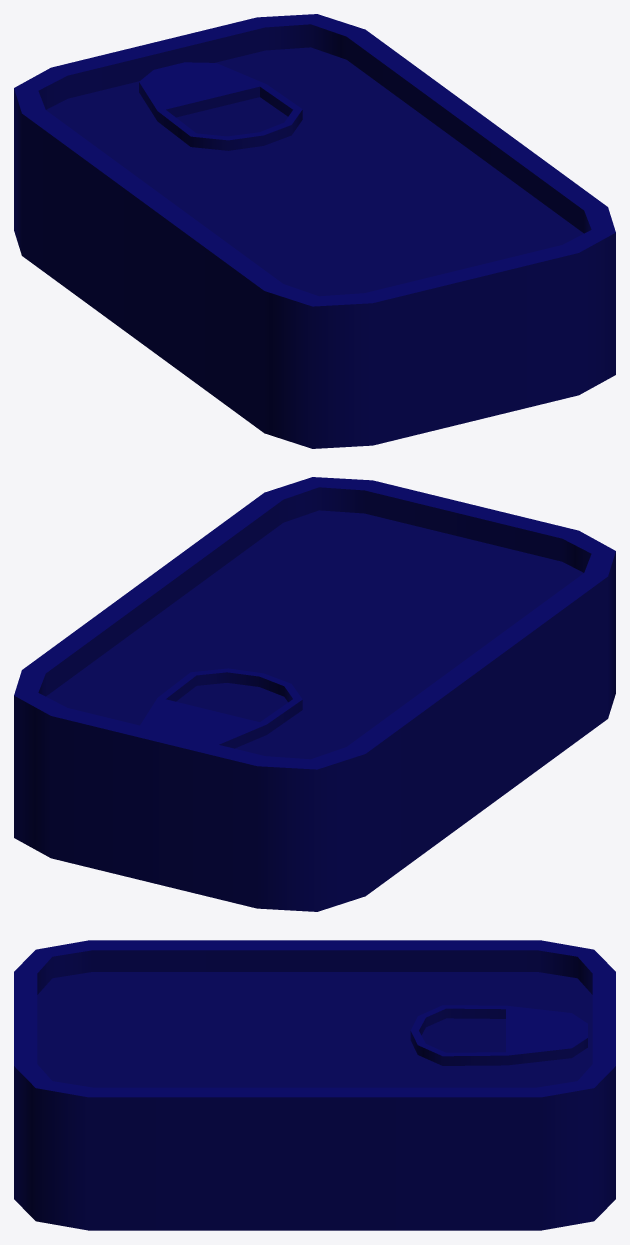
File: consumables-cannedfood-canofsardines_v1.fbx
3 renders of one model, top to bottom at view 1: azimuth 30°, elevation 25°; view 2: azimuth 150°, elevation 25°; view 3: azimuth 270°, elevation 25°, orthographic. The views are drawn at different scales.
Visible parts, largest first — view 1: CanOfSardines.001; view 2: CanOfSardines.001; view 3: CanOfSardines.001.
Boxes of the visible parts, left/top/right/bottom form: CanOfSardines.001: left=14, top=14, right=615, bottom=448; CanOfSardines.001: left=14, top=477, right=615, bottom=911; CanOfSardines.001: left=14, top=940, right=615, bottom=1230.
Size of the model in its own units: 0.1305 by 0.0517 by 0.2117.
